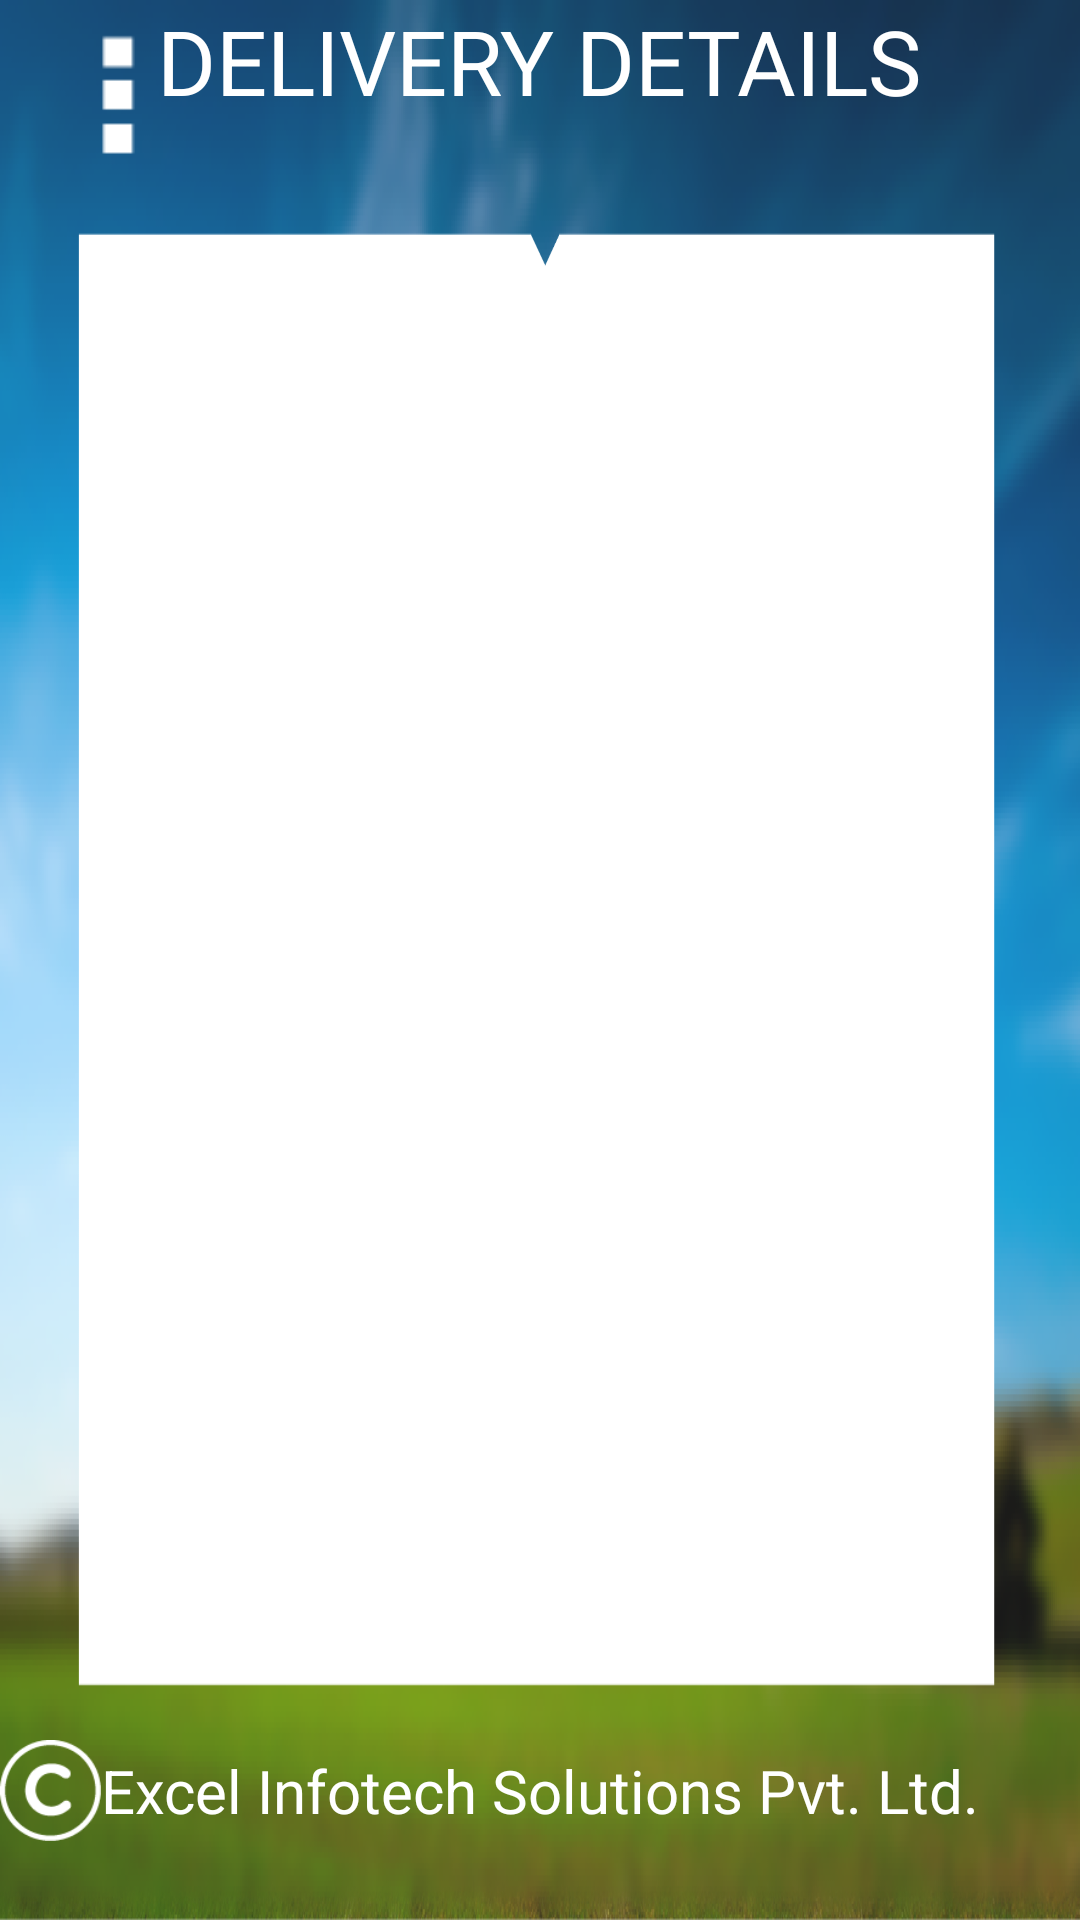

Point at icon controls on the screen. Image size 1080w x 1920h, points as (x=x, y=y).
copyright: (x=50, y=1784)
